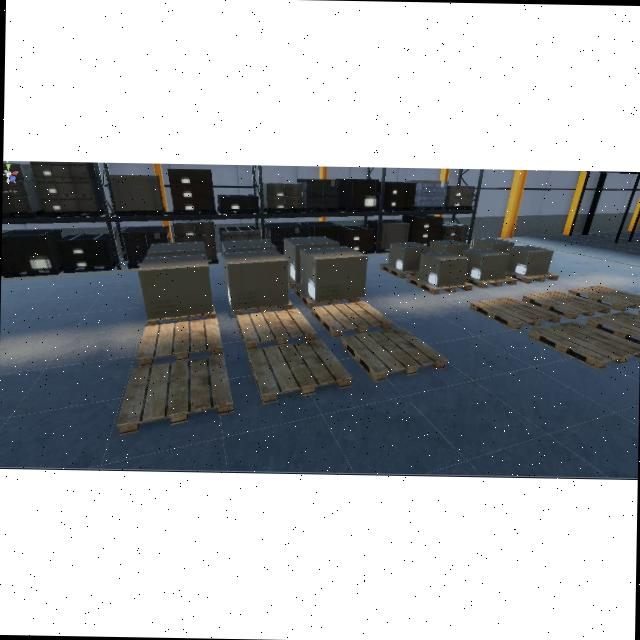wooden_pallet: (116, 355, 235, 436), (247, 339, 352, 405), (341, 327, 448, 383), (528, 320, 640, 370), (137, 318, 223, 366), (236, 308, 317, 350), (469, 296, 562, 330), (310, 301, 392, 336), (521, 290, 612, 319), (293, 285, 361, 308), (146, 302, 215, 324), (405, 275, 473, 294), (232, 298, 292, 316), (506, 269, 559, 283), (465, 274, 517, 288), (379, 263, 418, 278)
